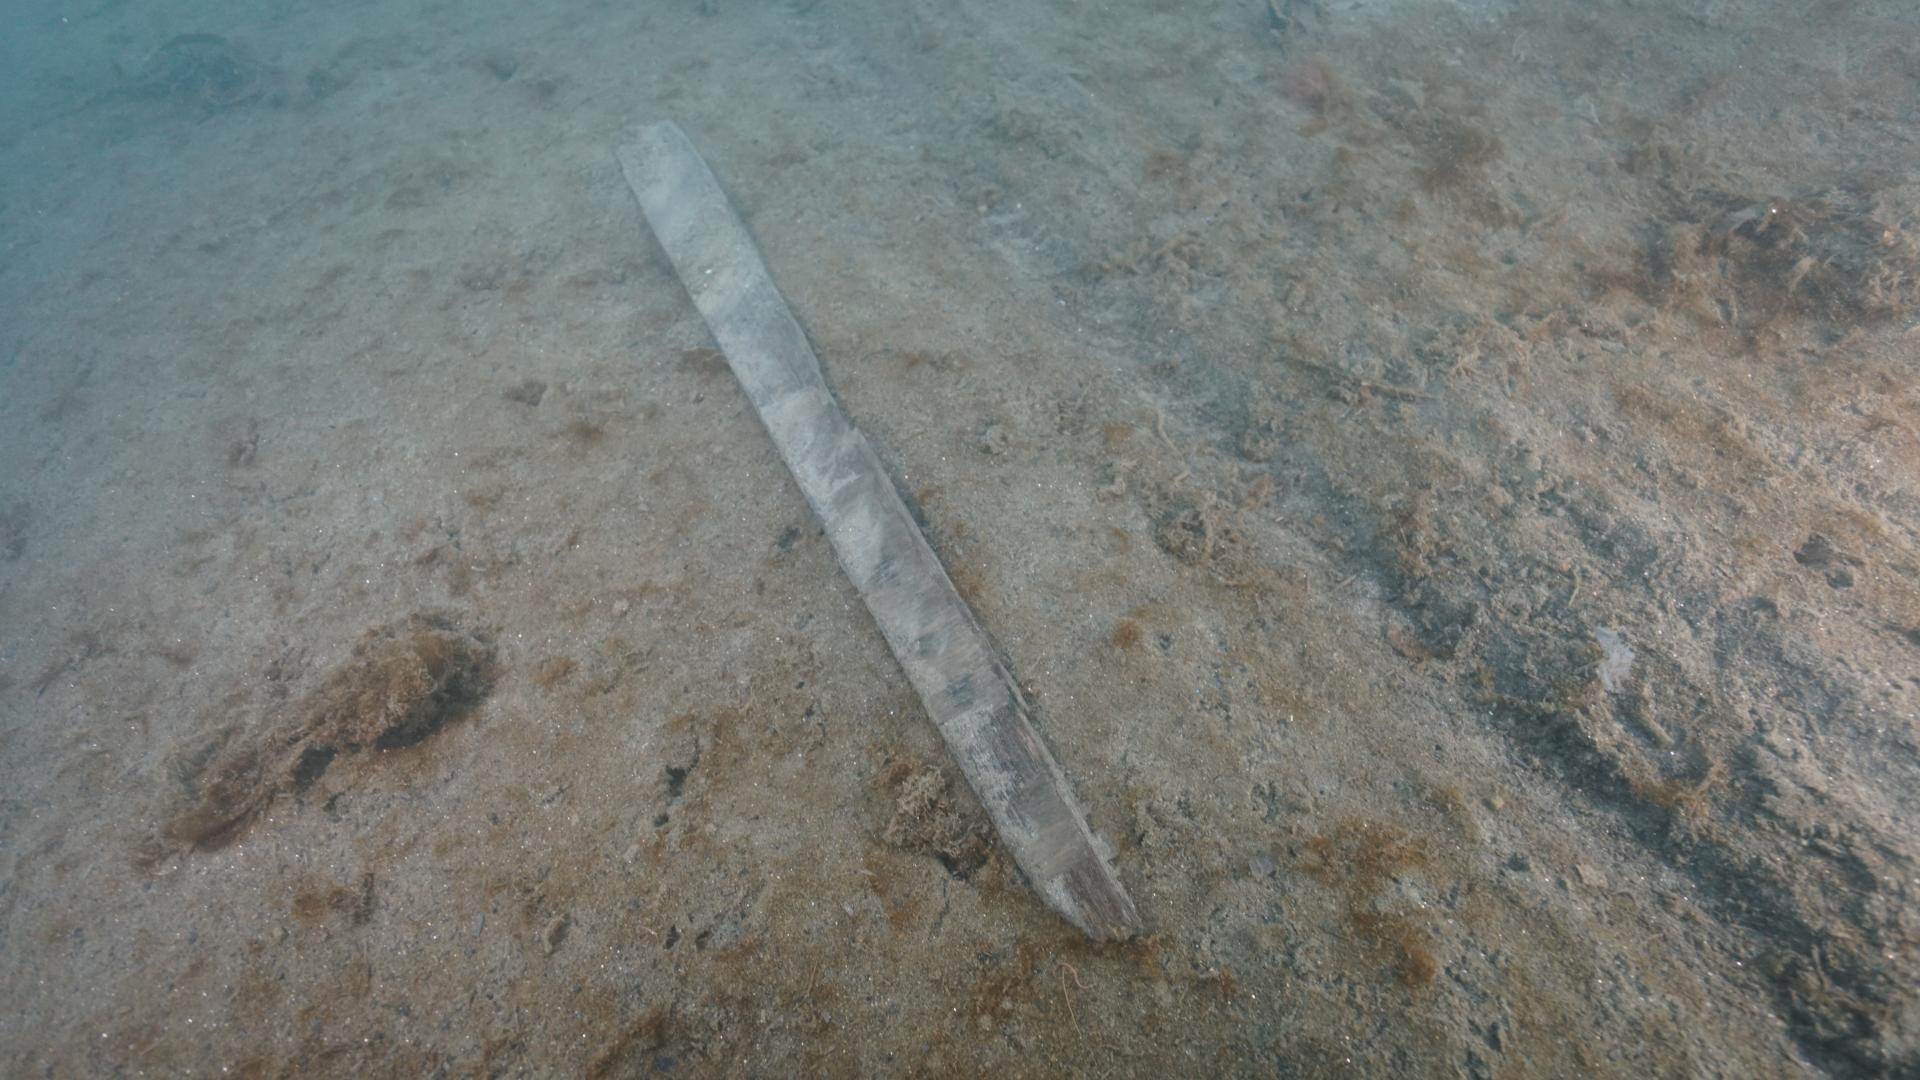wood: (613, 116, 1147, 945)
